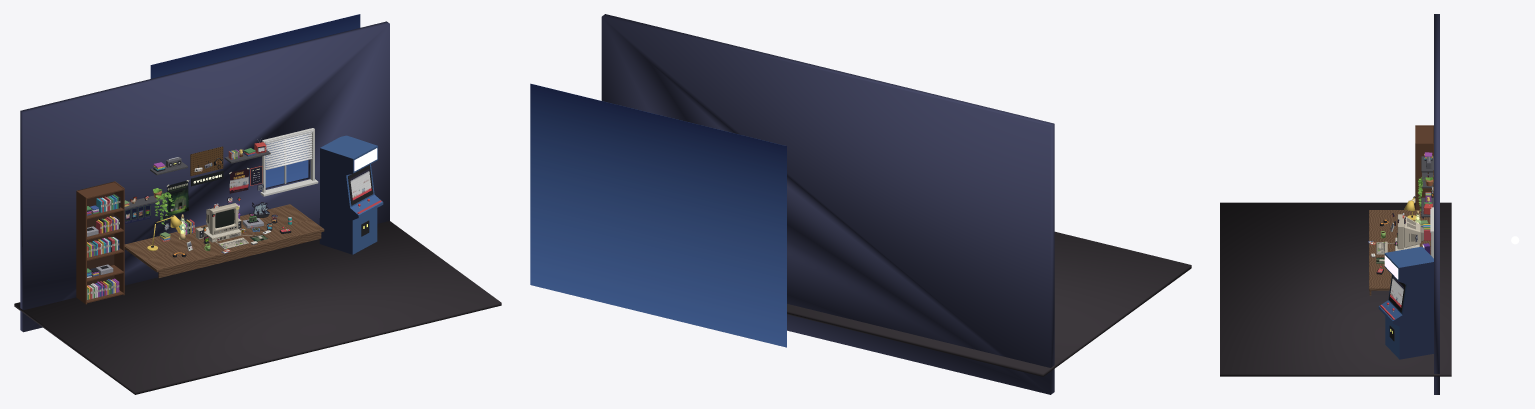
File: desk.glb
3 views of the same model, side by side, from view 1: azimuth 30°, elevation 25°; view 2: azimuth 150°, elevation 25°; view 3: azimuth 270°, elevation 25° (orthographic). The views are drawn at different scales.
Parts seen in each view (by area): view 1: Wall, Floor, Bookcase, BigArcade_Body, Desk_Top, Night_Sky, Desk_Apron, Pegboard, Poster_KeyArt, CRT_Front, BigArcade_Screen; view 2: Wall, Night_Sky, Floor; view 3: Floor, BigArcade_Body, Wall, Desk_Top, Bookcase, CRT_Rear, BigArcade_Screen.
Boxes of the visible parts, left/top/right/bottom form: Wall: left=20, top=21, right=389, bottom=332; Floor: left=14, top=221, right=501, bottom=394; Bookcase: left=76, top=181, right=124, bottom=304; BigArcade_Body: left=319, top=135, right=383, bottom=254; Desk_Top: left=124, top=204, right=324, bottom=272; Night_Sky: left=150, top=14, right=360, bottom=187; Desk_Apron: left=158, top=232, right=321, bottom=277; Pegboard: left=190, top=146, right=223, bottom=176; Poster_KeyArt: left=167, top=180, right=188, bottom=216; CRT_Front: left=209, top=203, right=238, bottom=235; BigArcade_Screen: left=350, top=169, right=371, bottom=200; Wall: left=601, top=14, right=1054, bottom=394; Night_Sky: left=530, top=83, right=786, bottom=347; Floor: left=787, top=231, right=1191, bottom=376; Floor: left=1220, top=202, right=1451, bottom=376; BigArcade_Body: left=1378, top=246, right=1433, bottom=359; Wall: left=1434, top=14, right=1439, bottom=394; Desk_Top: left=1369, top=210, right=1430, bottom=290; Bookcase: left=1415, top=125, right=1433, bottom=209; CRT_Rear: left=1404, top=216, right=1420, bottom=247; BigArcade_Screen: left=1390, top=276, right=1403, bottom=307.
Bounding box in the file's own units: 7.3 × 4 × 5.2.
115 materials, 12 textured.
